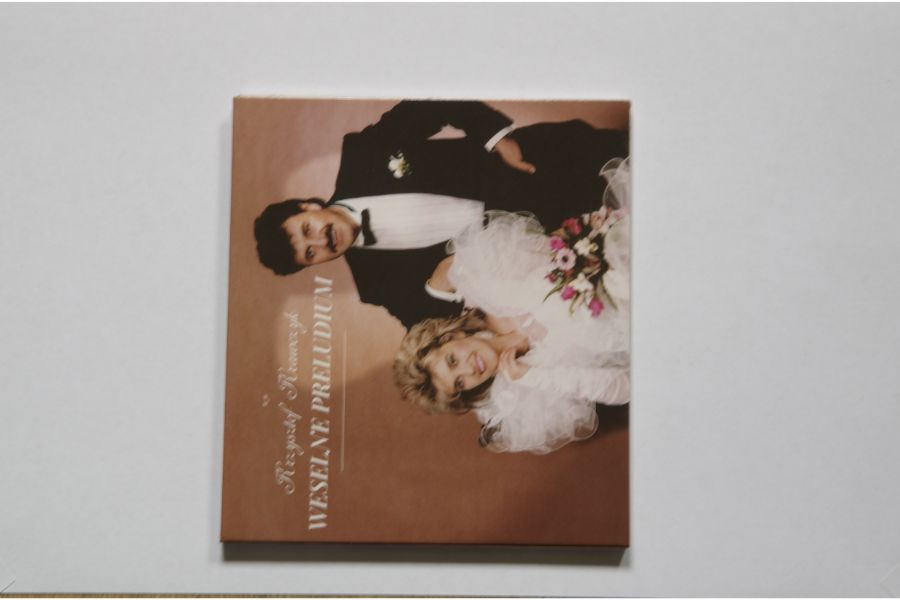album: (217, 96, 631, 547)
